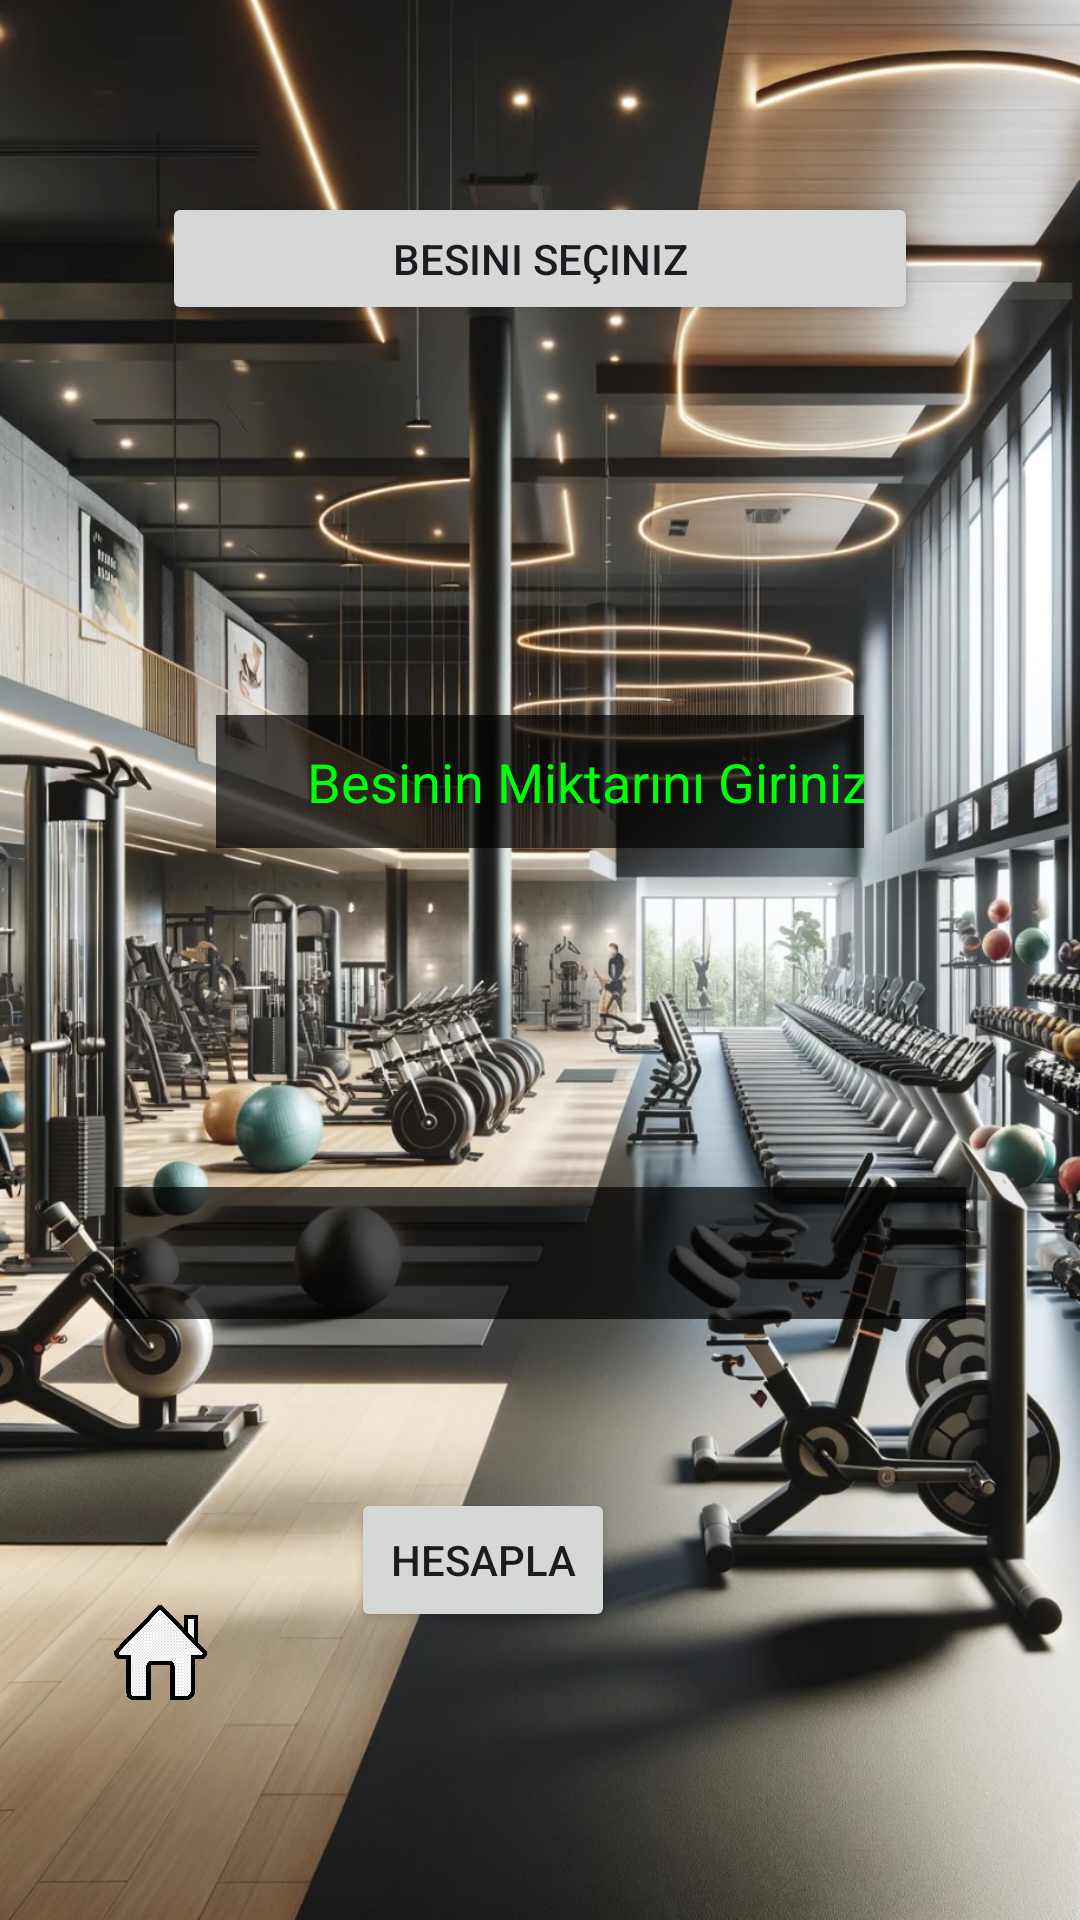

Where to tap for icons on this 1080*1920 app screen, as (x,y):
home: (160,1652)
